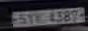51부4387: (15, 10, 77, 26)
